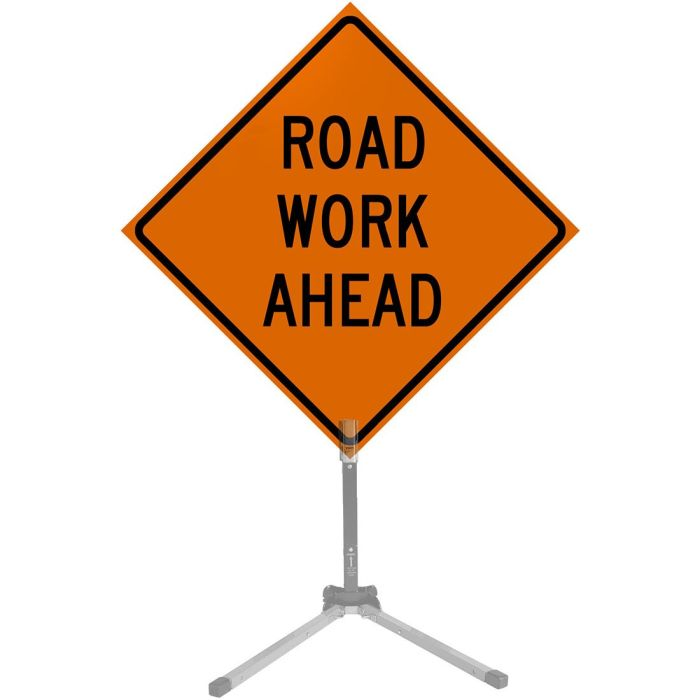Road_workahead: (120, 1, 585, 453)
